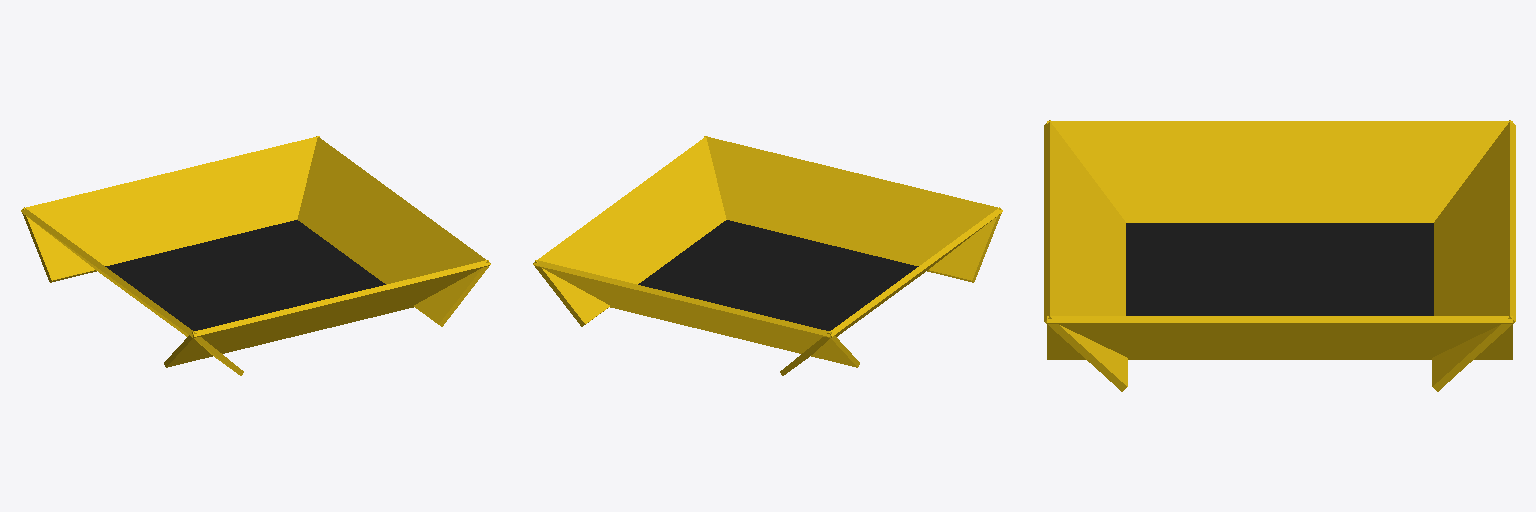
URDF robot description (wamv):
<?xml version="1.0"?>
<robot name="wamv">
  <link name="boat/base_link">
    <visual>
      <origin xyz="0.288249 0 0" rpy="0 0 0"/>
      <geometry>
        <mesh filename="package://description/models/wamv/meshes/WAM-V-Base.dae"/>
      </geometry>
    </visual>
    <!-- Thrusters (as in models/wamv/model.sdf), drawn at zero azimuth -->
    <visual name="left_engine">
      <origin xyz="-2.0855 1.0271 0.3182" rpy="0 0 0"/>
      <geometry><mesh filename="package://description/models/wamv/meshes/engine.dae"/></geometry>
    </visual>
    <visual name="left_propeller">
      <origin xyz="-2.3637 1.0271 -0.1911" rpy="0 0 0"/>
      <geometry><mesh filename="package://description/models/wamv/meshes/propeller.dae"/></geometry>
    </visual>
    <visual name="right_engine">
      <origin xyz="-2.0855 -1.0271 0.3182" rpy="0 0 0"/>
      <geometry><mesh filename="package://description/models/wamv/meshes/engine.dae"/></geometry>
    </visual>
    <visual name="right_propeller">
      <origin xyz="-2.3637 -1.0271 -0.1911" rpy="0 0 0"/>
      <geometry><mesh filename="package://description/models/wamv/meshes/propeller.dae"/></geometry>
    </visual>
    <!-- Landing pad above the tether winch (as in models/wamv/model.sdf) -->
    <visual name="landing_pad_plate">
      <origin xyz="0.0000 0.0000 1.3050" rpy="0.0000 0.0000 0.0000"/>
      <geometry><box size="0.4000 0.4000 0.0100"/></geometry>
      <material name="pad_plate"><color rgba="0.15 0.15 0.15 1"/></material>
    </visual>
    <visual name="landing_pad_wall_front">
      <origin xyz="0.2500 0.0000 1.3550" rpy="0.0000 -0.7854 0.0000"/>
      <geometry><box size="0.1414 0.6000 0.0100"/></geometry>
      <material name="pad_wall_front"><color rgba="0.9 0.75 0.1 1"/></material>
    </visual>
    <visual name="landing_pad_wall_back">
      <origin xyz="-0.2500 0.0000 1.3550" rpy="0.0000 0.7854 0.0000"/>
      <geometry><box size="0.1414 0.6000 0.0100"/></geometry>
      <material name="pad_wall_back"><color rgba="0.9 0.75 0.1 1"/></material>
    </visual>
    <visual name="landing_pad_wall_left">
      <origin xyz="0.0000 0.2500 1.3550" rpy="0.7854 0.0000 0.0000"/>
      <geometry><box size="0.6000 0.1414 0.0100"/></geometry>
      <material name="pad_wall_left"><color rgba="0.9 0.75 0.1 1"/></material>
    </visual>
    <visual name="landing_pad_wall_right">
      <origin xyz="0.0000 -0.2500 1.3550" rpy="-0.7854 0.0000 0.0000"/>
      <geometry><box size="0.6000 0.1414 0.0100"/></geometry>
      <material name="pad_wall_right"><color rgba="0.9 0.75 0.1 1"/></material>
    </visual>
  </link>
</robot>

--- Facts derived from the render (not from the file) ---
3 views of the same robot in one strip: view 1: azimuth 30°, elevation 25°; view 2: azimuth 150°, elevation 25°; view 3: azimuth 270°, elevation 25° (orthographic).
Model wamv with 1 links and 0 joints (none), rooted at boat/base_link, posed all joints at 0.
Links seen in each view (by area): view 1: boat/base_link; view 2: boat/base_link; view 3: boat/base_link.
Link boxes in pixels (x1,y1,x2,y2): boat/base_link: [21, 136, 490, 375]; boat/base_link: [533, 136, 1002, 375]; boat/base_link: [1044, 120, 1515, 391].
Size in the robot's own frame: 0.6071 by 0.6071 by 0.1085 metres.
0 mesh visuals loaded from 3 distinct referenced files (none loaded); not drawn: 5 (reference not matched to a file when rendering).
